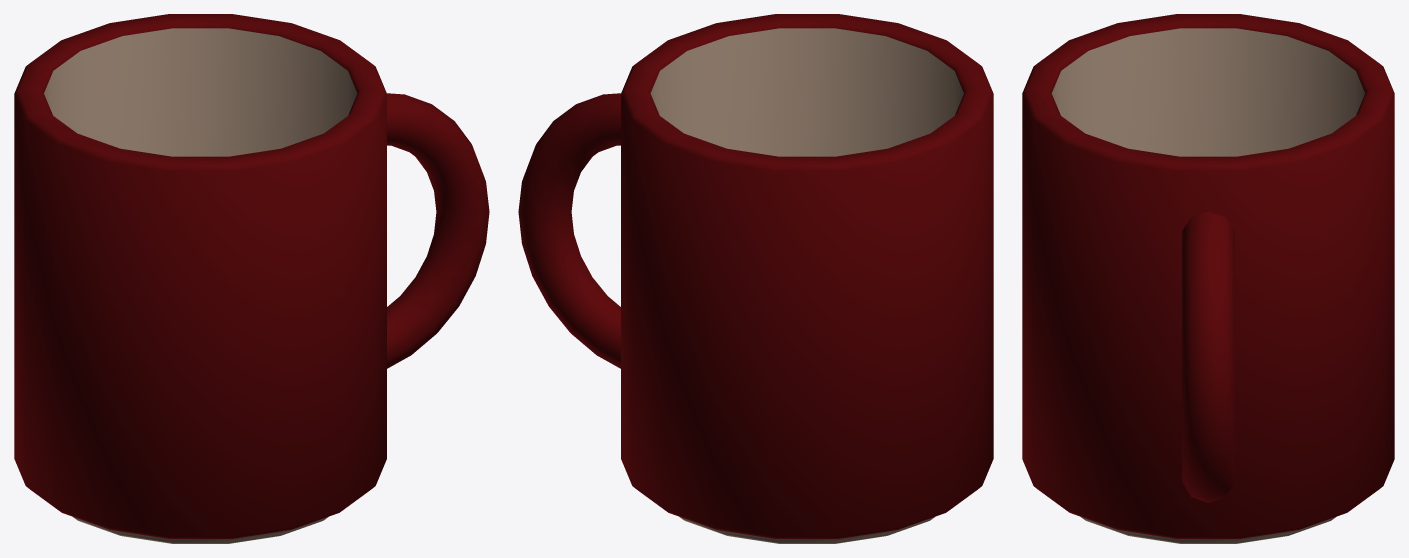
File: tasse.glb
The picture shows the model from 3 angles, left to right: view 1: azimuth 30°, elevation 25°; view 2: azimuth 150°, elevation 25°; view 3: azimuth 270°, elevation 25°; orthographic projection.
Visible parts, largest first — view 1: Cylinder.001; view 2: Cylinder.001; view 3: Cylinder.001.
Boxes of the visible parts, x1,y1,x2,y2 form: Cylinder.001: (14,14,489,543); Cylinder.001: (518,14,993,543); Cylinder.001: (1022,14,1394,543).
Size of the model in its own units: 0.3781 by 0.3151 by 0.2744.
